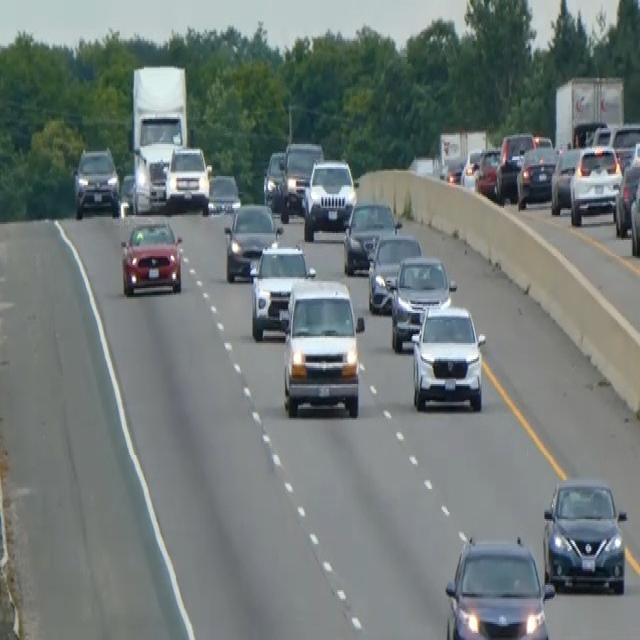car: (443, 534, 555, 638), (542, 474, 628, 594), (410, 302, 486, 412), (388, 252, 456, 352), (248, 240, 315, 341), (120, 217, 183, 297), (367, 229, 422, 315), (223, 201, 282, 281), (302, 156, 357, 240), (569, 142, 622, 226), (342, 199, 399, 274), (73, 144, 120, 219), (279, 139, 324, 217), (164, 142, 211, 210), (495, 130, 535, 202), (516, 144, 557, 210), (132, 146, 169, 212), (550, 144, 585, 213), (592, 121, 639, 171), (613, 158, 639, 236), (205, 171, 240, 215), (262, 149, 286, 208), (474, 146, 501, 197), (571, 117, 607, 146), (459, 148, 482, 188), (629, 171, 639, 256), (440, 153, 465, 183), (119, 172, 135, 212)
lorry: (127, 62, 189, 210)
minivan: (279, 274, 365, 419)
